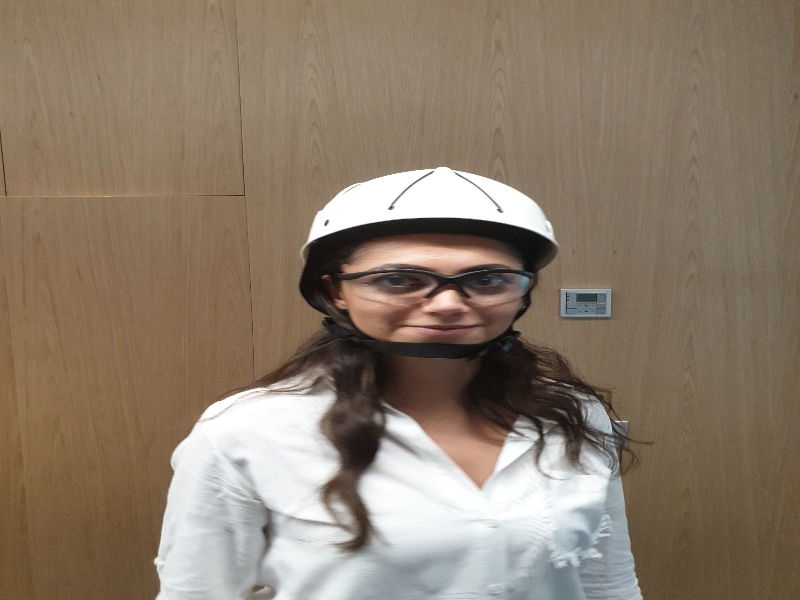Baret: (301, 165, 561, 255)
Gozluk: (331, 266, 537, 303)
